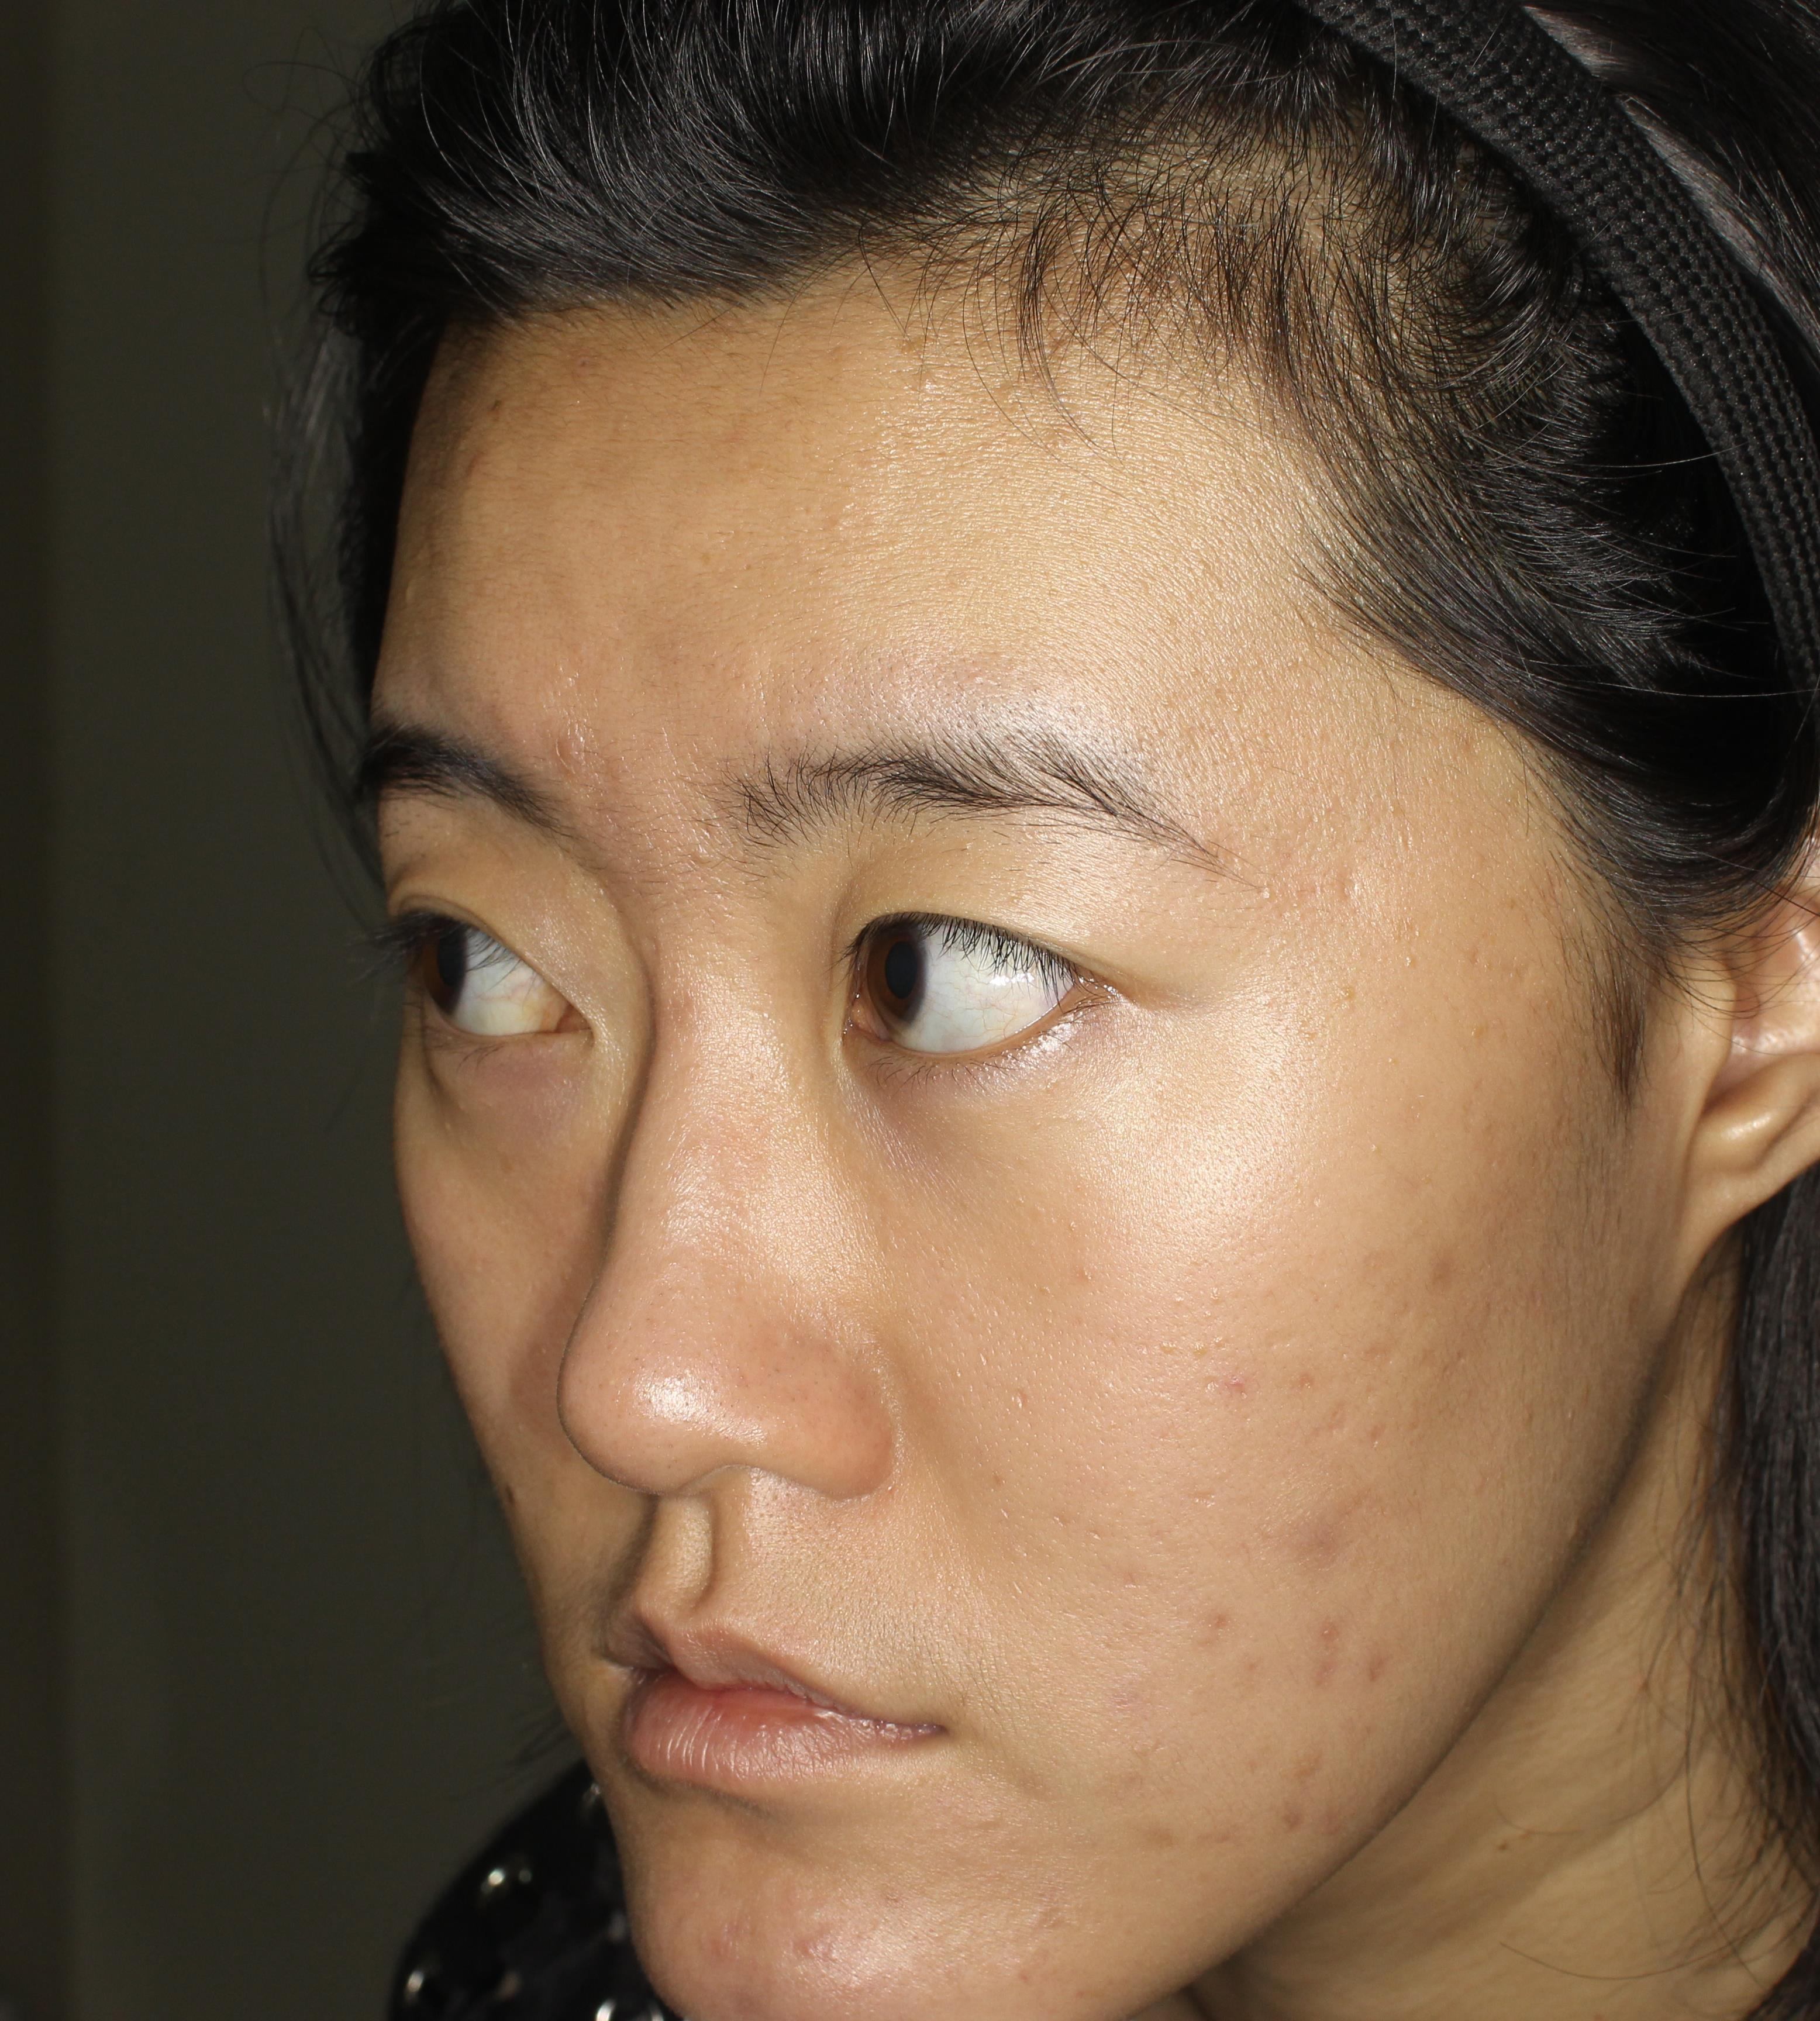fore: (1288, 1487, 1395, 1577), (562, 711, 643, 827), (436, 393, 531, 492), (1296, 1608, 1381, 1684), (1291, 1759, 1354, 1849), (1184, 1589, 1228, 1666)
